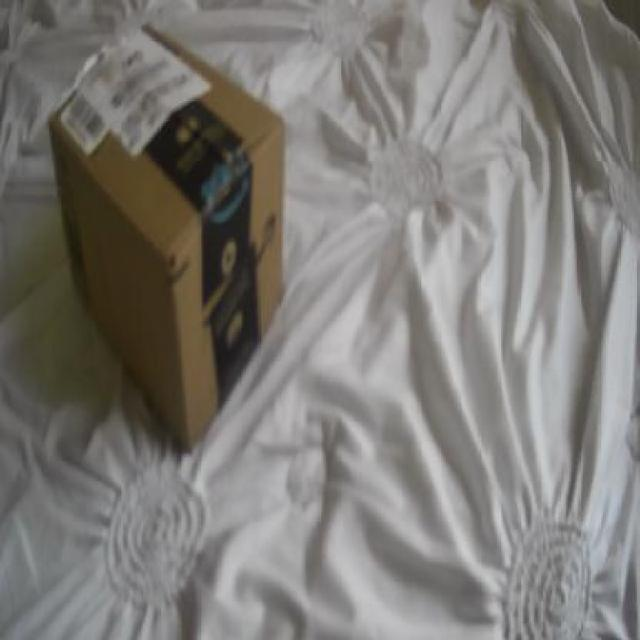cardboxes: (46, 21, 285, 462)
